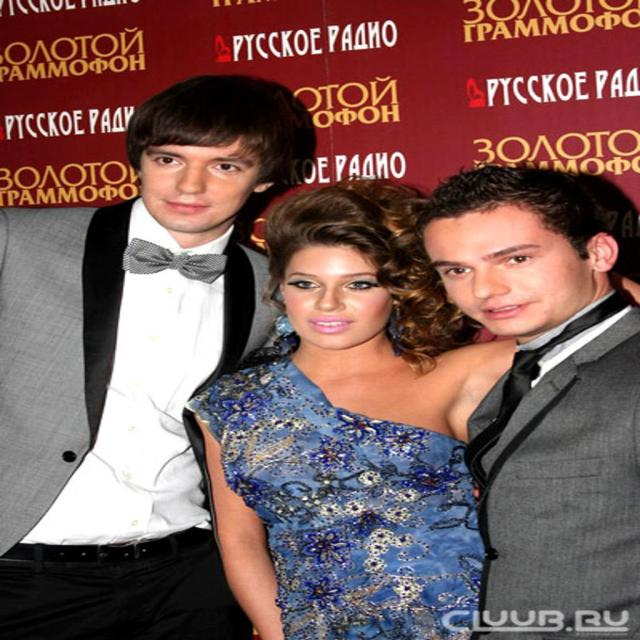Face: (419, 196, 617, 349), (256, 221, 411, 354), (106, 128, 281, 241)
